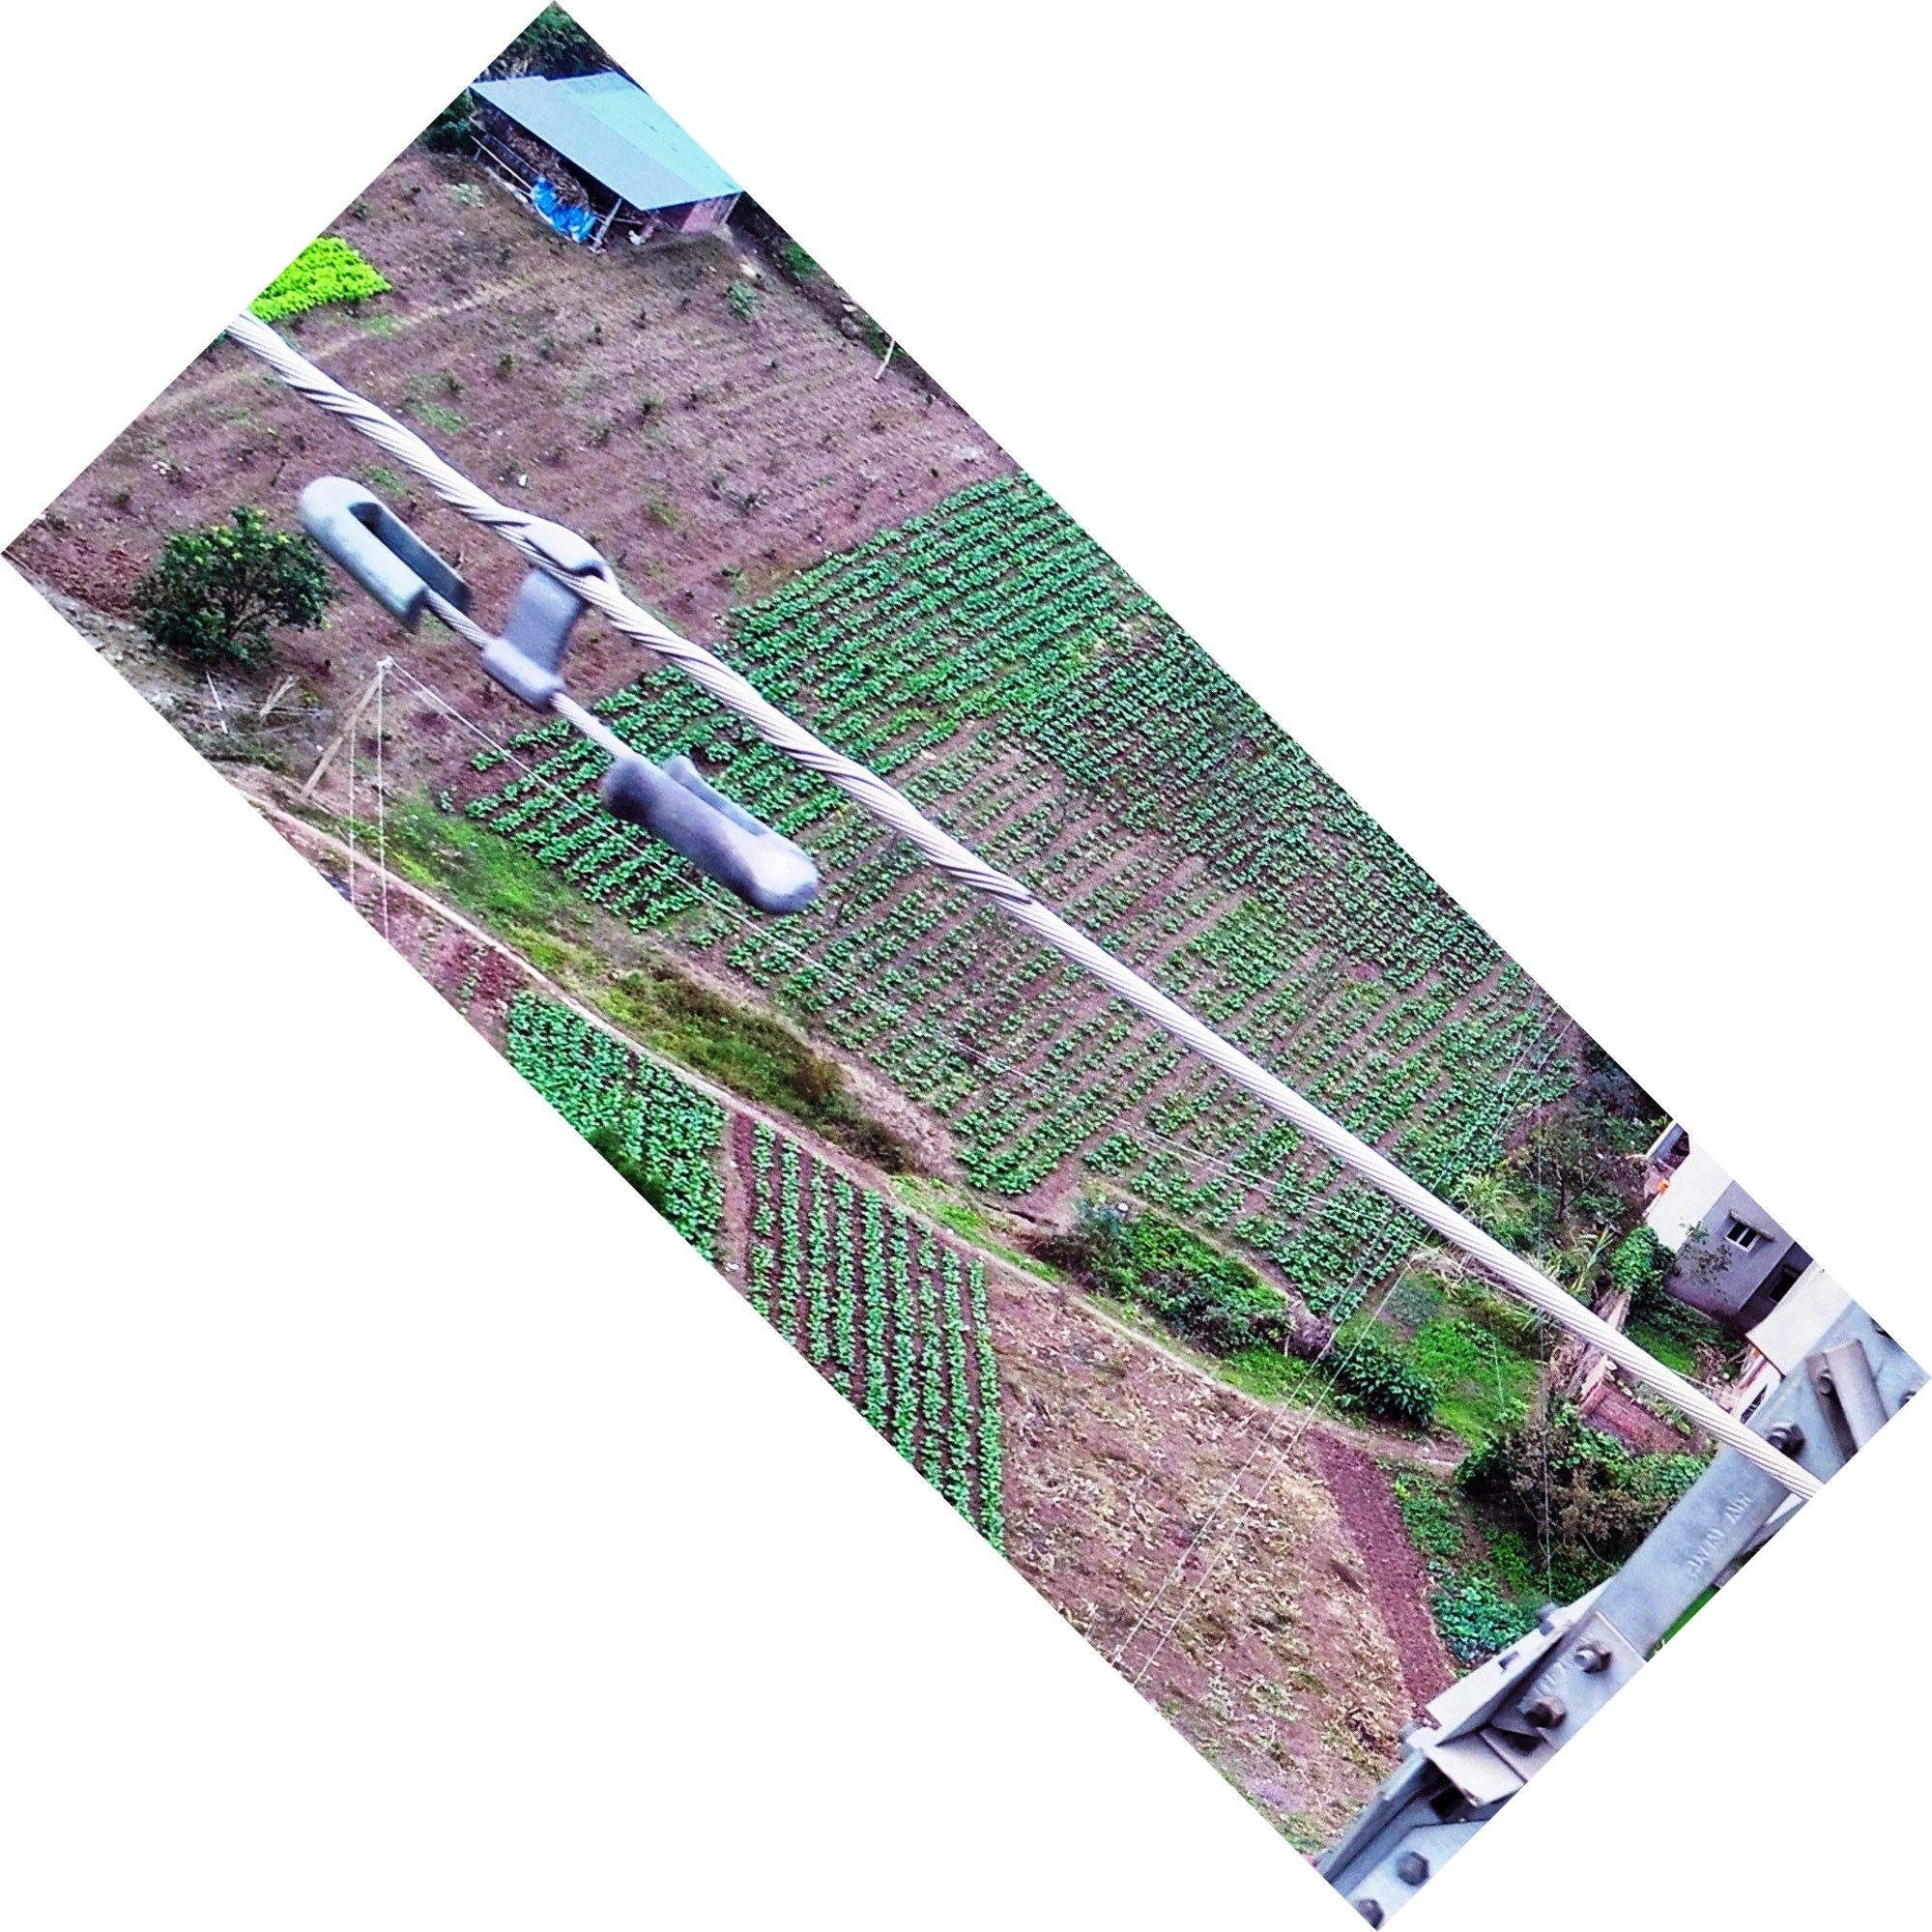Shockproof hammer: (265, 387, 846, 964)
